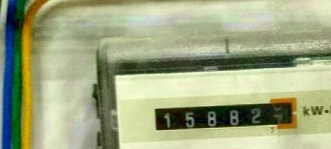1: (161, 111, 172, 129)
2: (249, 106, 261, 123)
5: (182, 110, 195, 128)
7: (271, 112, 283, 125)
8: (205, 109, 217, 126), (228, 109, 239, 125)
screen: (147, 94, 303, 135)
